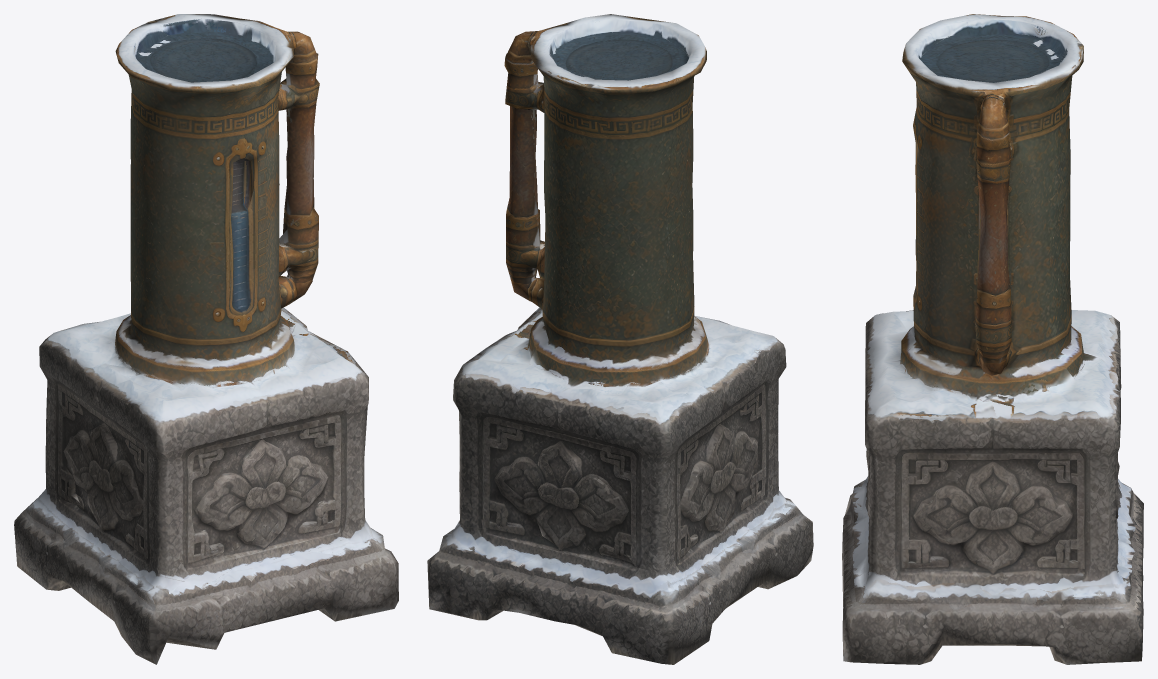
The model's file is PR_Cheugugi.fbx.
3 views of the same model, side by side, from view 1: azimuth 30°, elevation 25°; view 2: azimuth 150°, elevation 25°; view 3: azimuth 270°, elevation 25° (orthographic). The views are drawn at different scales.
Parts seen in each view (by area): view 1: texture_mapping; view 2: texture_mapping; view 3: texture_mapping.
Part boxes in pixels (box(x1,y1,x2,y2)): texture_mapping: box(14, 14, 398, 664); texture_mapping: box(427, 14, 813, 664); texture_mapping: box(842, 14, 1143, 664).
Bounding box in the file's own units: 0.4901 × 0.4946 × 1.
Materials: 1 (1 with a texture image).
